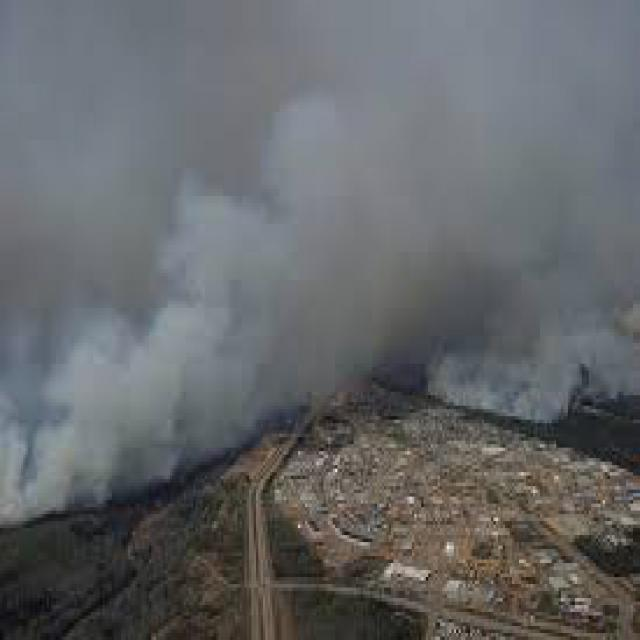Smoke: (50, 83, 626, 447)
